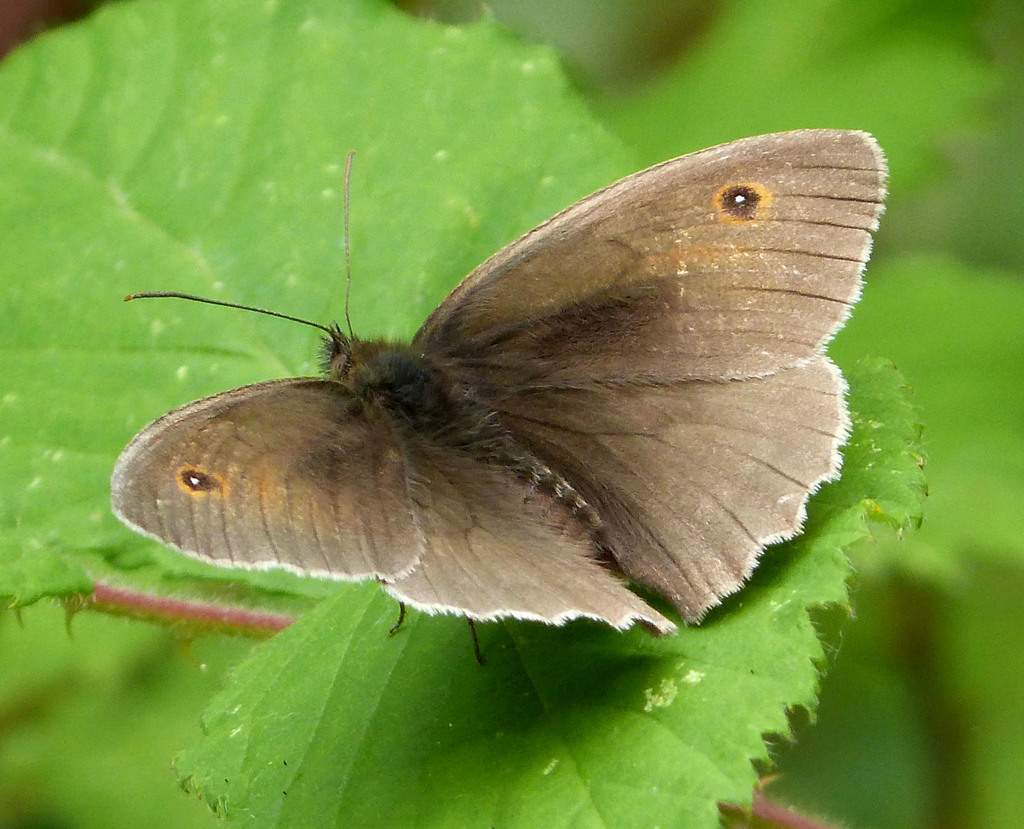Butterfly: (104, 123, 914, 650)
